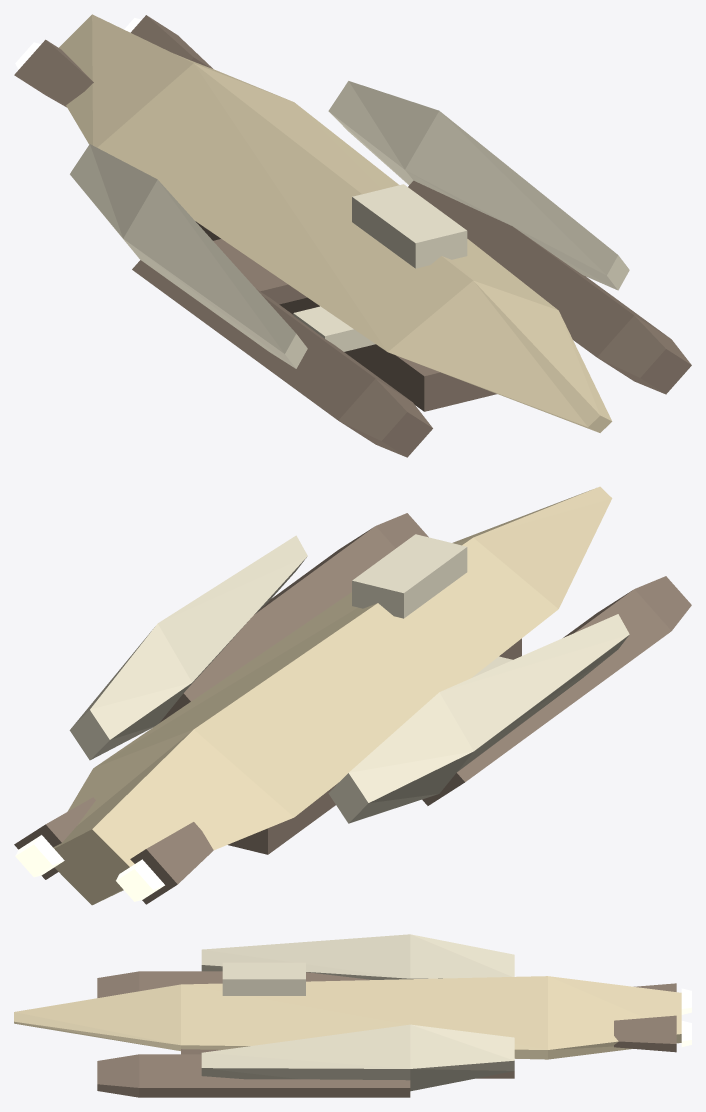
3 renders of one model, top to bottom at view 1: azimuth 30°, elevation 25°; view 2: azimuth 150°, elevation 25°; view 3: azimuth 270°, elevation 25°, orthographic. The views are drawn at different scales.
Size of the model in its own units: 2.83 by 1.08 by 7.22.
